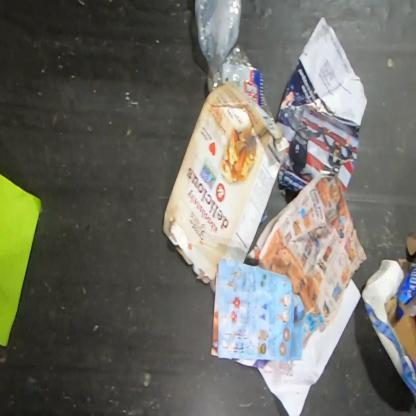cardboard: (162, 80, 290, 284), (385, 233, 415, 386)
rigid_plastic: (193, 0, 253, 94)
